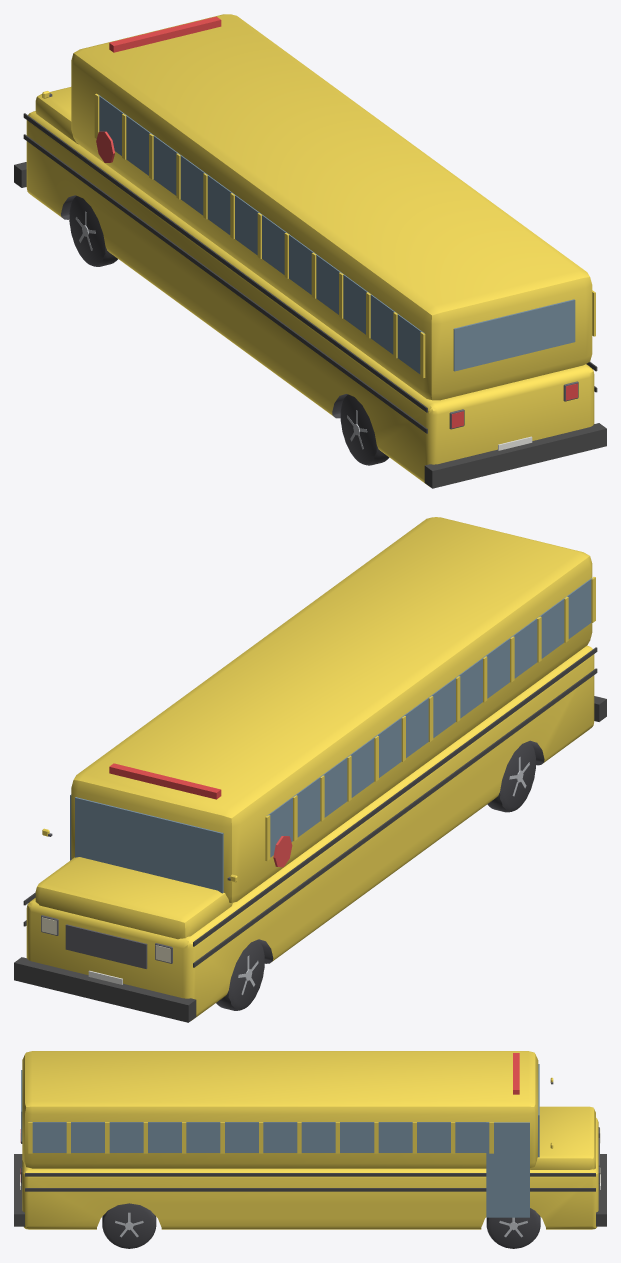
Rendered from school_bus.glb.
The picture shows the model from 3 angles, top to bottom: view 1: azimuth 30°, elevation 25°; view 2: azimuth 150°, elevation 25°; view 3: azimuth 270°, elevation 25°; orthographic projection. The views are drawn at different scales.
Visible parts, largest first — view 1: body, wheel_fl, wheel_rl; view 2: body, wheel_rl, wheel_fl; view 3: body, wheel_rr, wheel_fr.
Part boxes in pixels (<box>): body: <box>14,14,606,488</box>; wheel_fl: <box>69,196,117,266</box>; wheel_rl: <box>340,394,389,465</box>; body: <box>14,517,606,1022</box>; wheel_rl: <box>487,741,535,812</box>; wheel_fl: <box>216,940,264,1010</box>; body: <box>14,1051,606,1229</box>; wheel_rr: <box>102,1203,156,1248</box>; wheel_fr: <box>486,1208,540,1248</box>.
Bounding box in the file's own units: 2.9 × 3.03 × 10.8.
